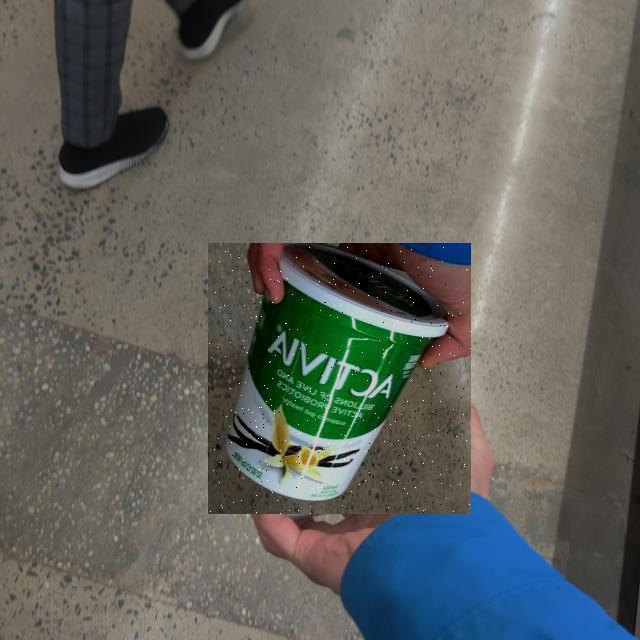Yoghurt: (208, 243, 471, 514)
